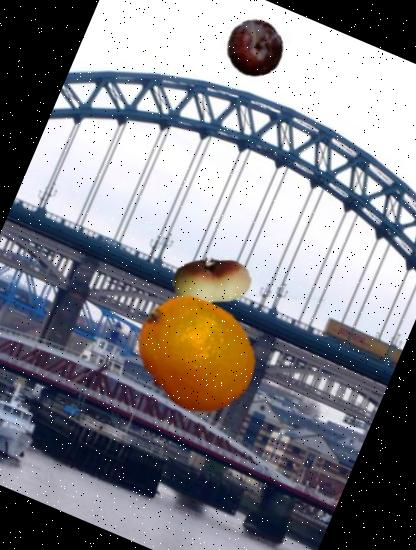Lemon: (113, 272, 278, 436)
Peach: (160, 230, 264, 334)
Plum: (216, 11, 292, 87)
